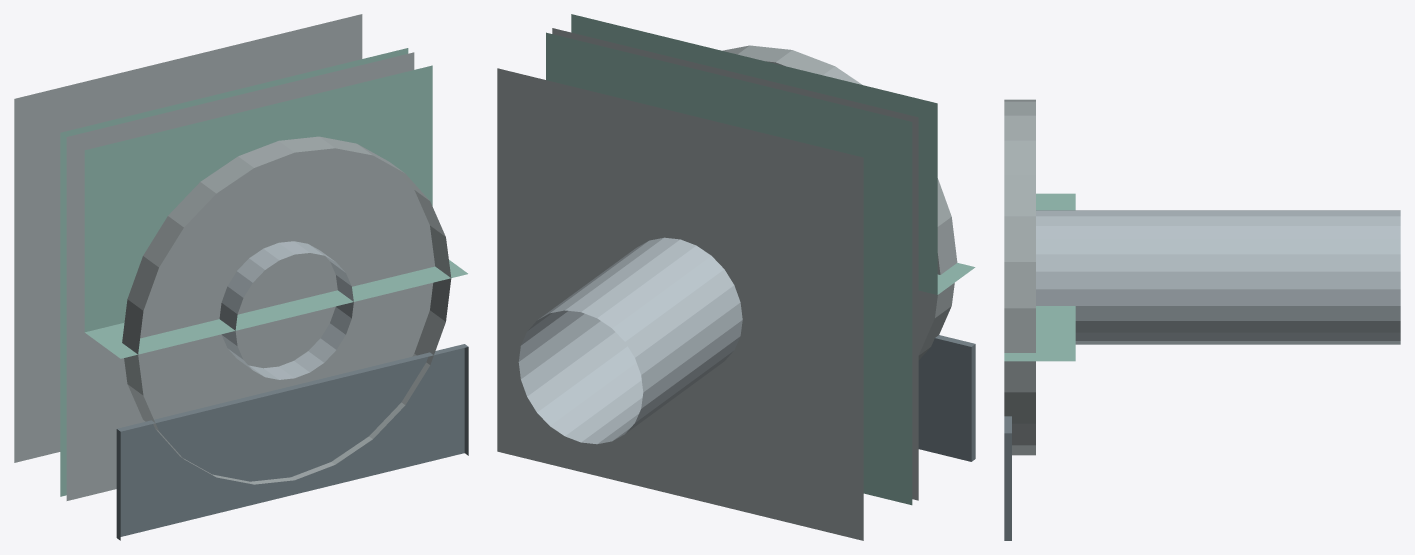
File: cell_127.obj
3 views of the same model, side by side, from view 1: azimuth 30°, elevation 25°; view 2: azimuth 150°, elevation 25°; view 3: azimuth 270°, elevation 25° (orthographic). The views are drawn at different scales.
Size of the model in its own units: 1 by 1 by 1.
